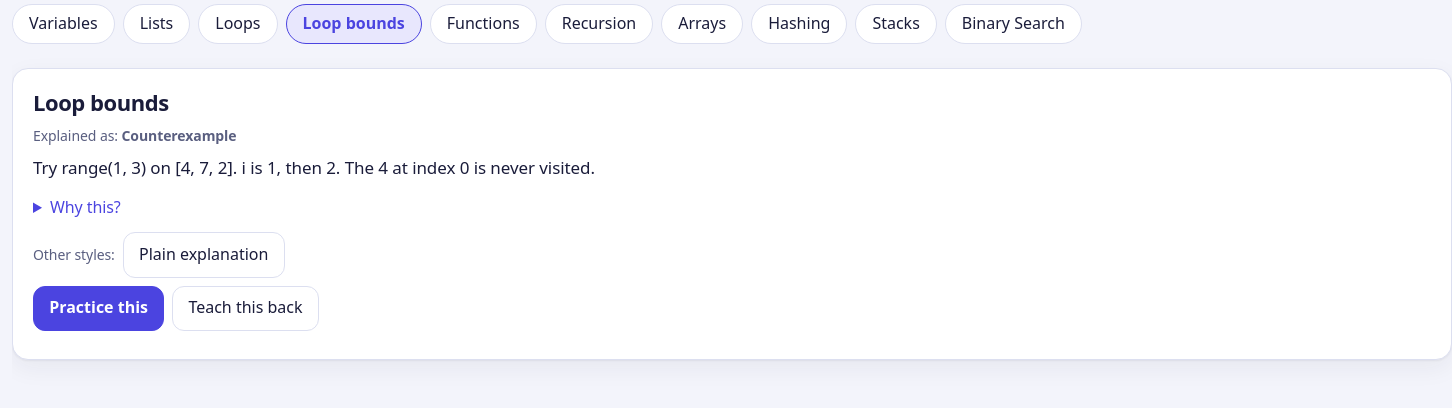
Learn screen › the student can look at another style, and it is marked as their choice
Check: the text "Counterexample" is shown, box [122, 126, 236, 145]
Click the button "Plain explanation": (204,255) [123, 232, 285, 278]
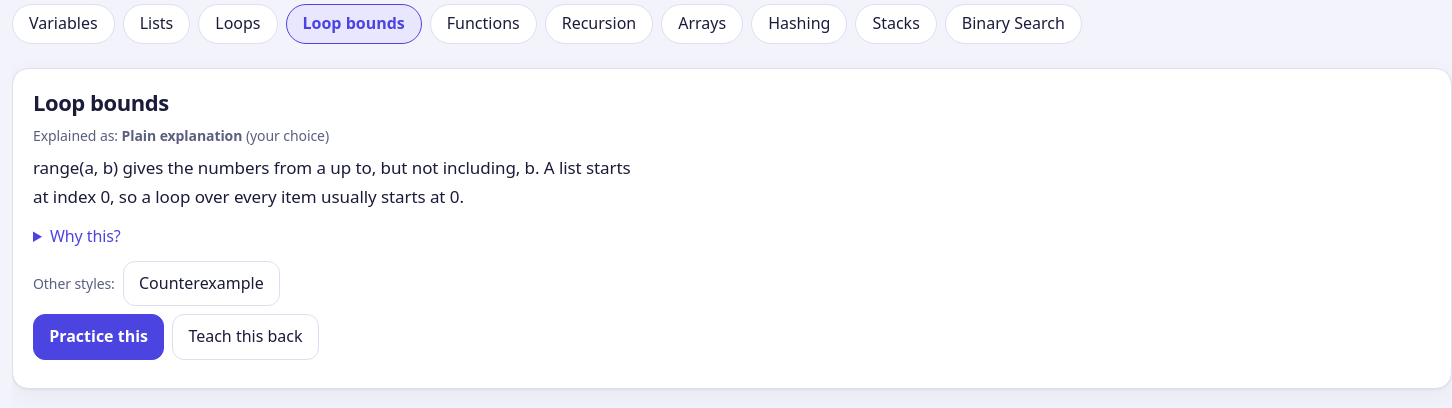
Check: the text "Explained as: Plain explanation (your choice)" is shown, box [33, 126, 329, 145]
Check: the text "gives the numbers from a up to" is shown, box [33, 156, 631, 208]
